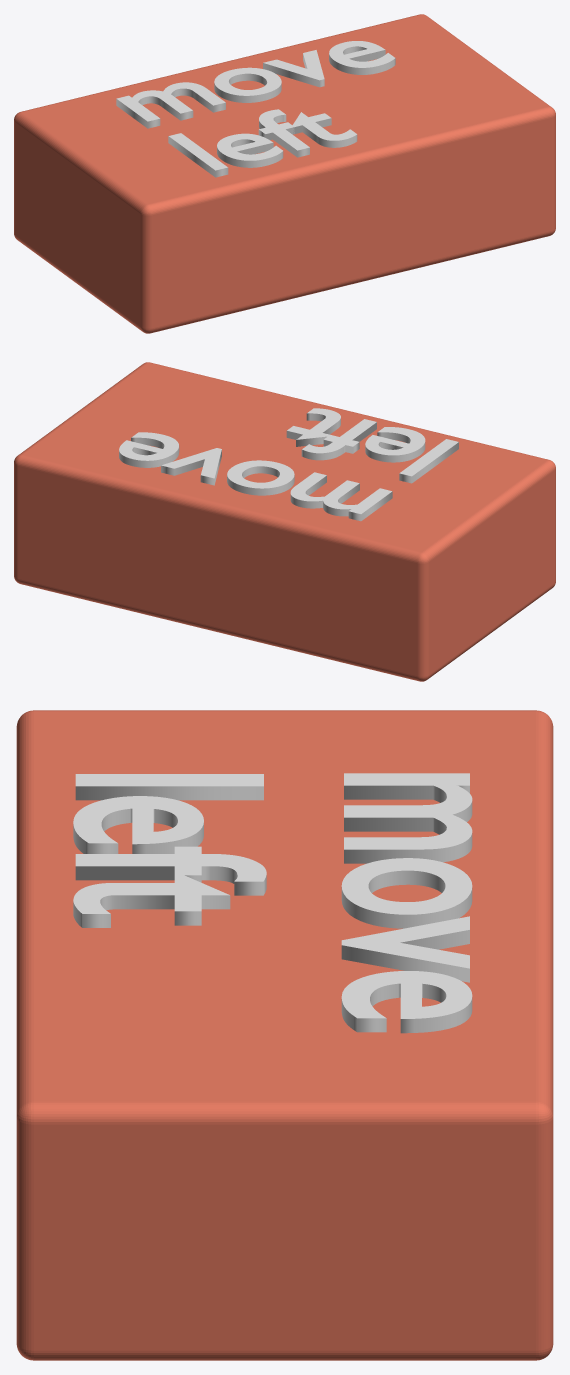
The model's file is 长方体左转.glb.
3 renders of one model, top to bottom at view 1: azimuth 30°, elevation 25°; view 2: azimuth 150°, elevation 25°; view 3: azimuth 270°, elevation 25°, orthographic. The views are drawn at different scales.
Parts seen in each view (by area): view 1: Cube, 文本; view 2: Cube, 文本; view 3: Cube, 文本.
Part boxes in pixels (left/top/right/bottom): Cube: left=14, top=14, right=555, bottom=333; 文本: left=116, top=41, right=395, bottom=177; Cube: left=14, top=362, right=555, bottom=681; 文本: left=119, top=408, right=458, bottom=521; Cube: left=16, top=710, right=553, bottom=1360; 文本: left=73, top=773, right=472, bottom=1033.
Size of the model in its own units: 3.56 by 1.12 by 2.
